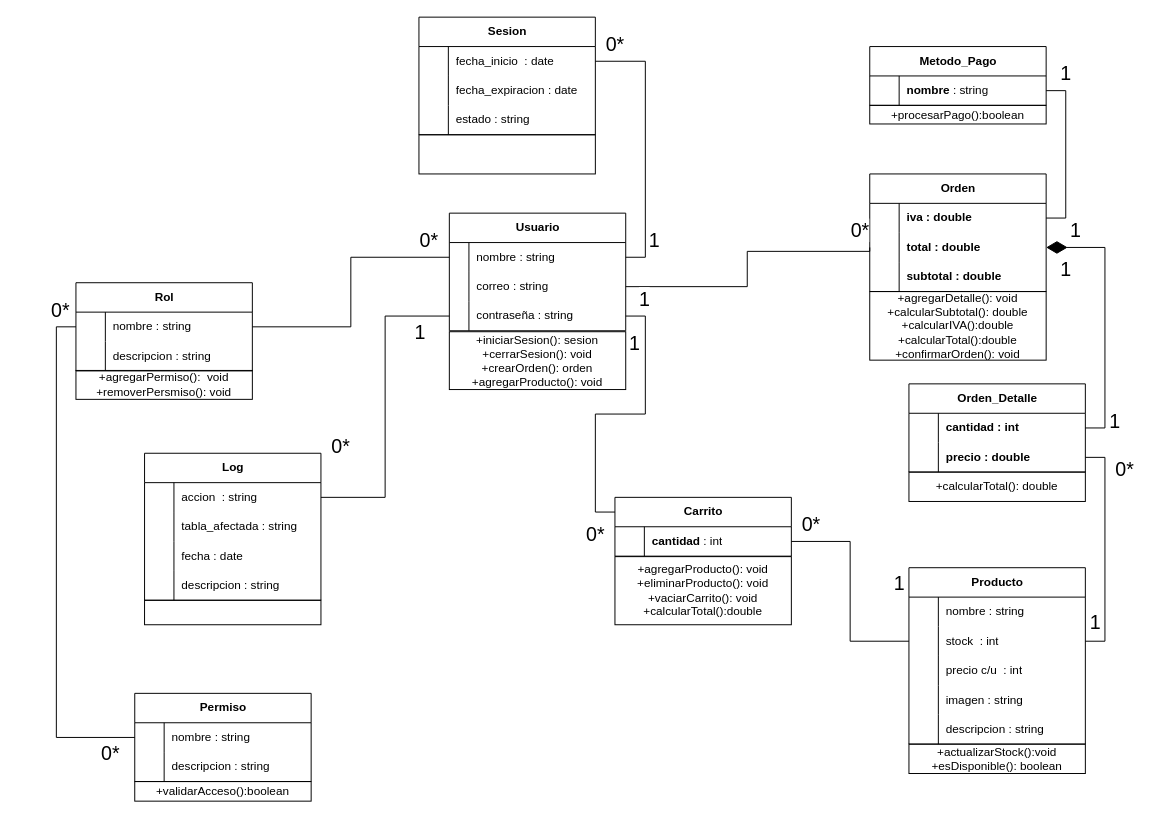
Some shapes in this 1150 by 818 pixel diagram are drawn without their labels. The centre of each missing label's shape, as x and y in pixels:
+esActiva(): Boolean +espirar(): void: (x=506, y=154)
+registrarAccion():void: (x=232, y=612)
